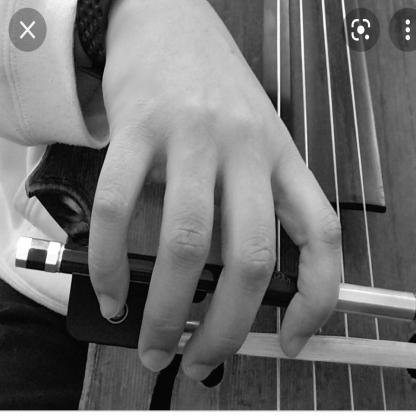good: (86, 76, 344, 393)
